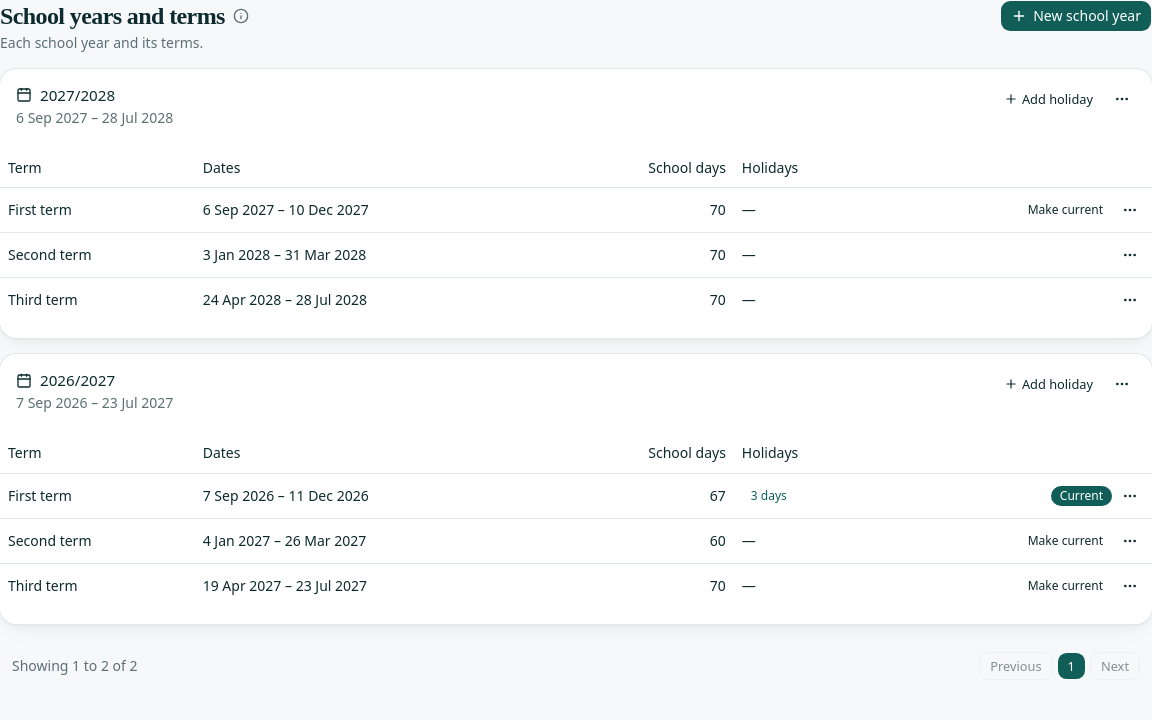
it: CalendarPage › offers Edit dates from a term row menu
The image size is (1152, 720).
Click the button named "Actions for Second term" in the row of "4 Jan 2027 – 26 Mar 2027": x=1130, y=541 [1116,527,1144,555]
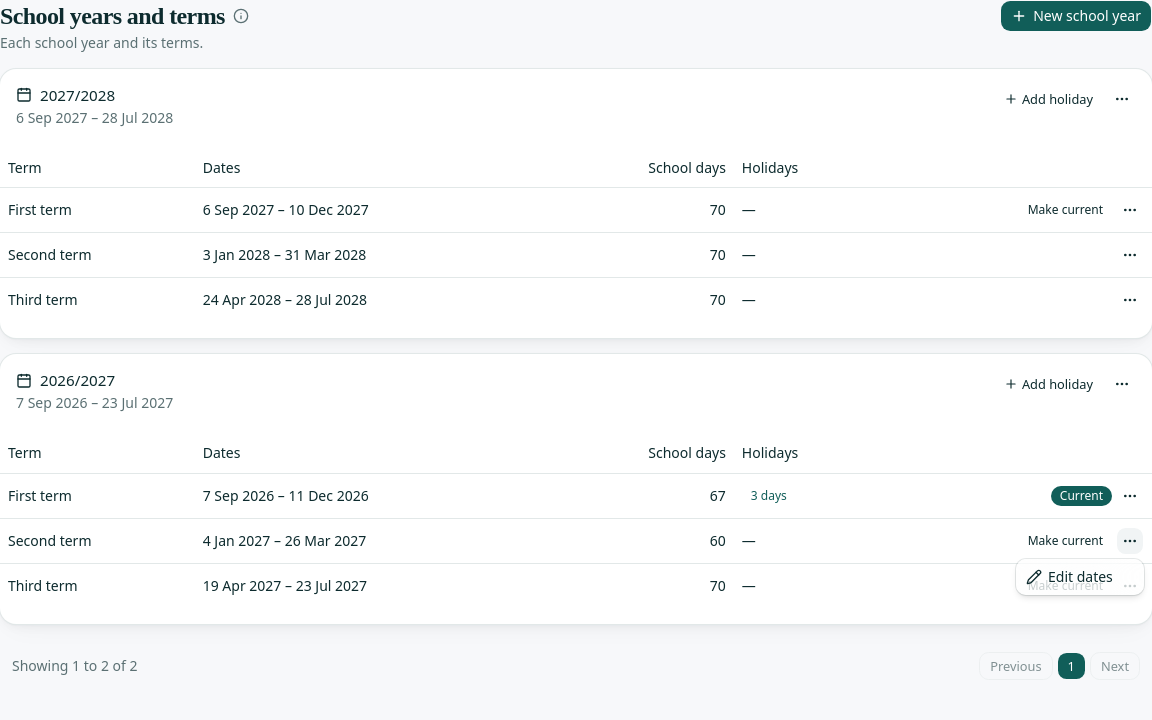
Click the menu item "Edit dates": x=1069, y=576 [1026,567,1113,586]
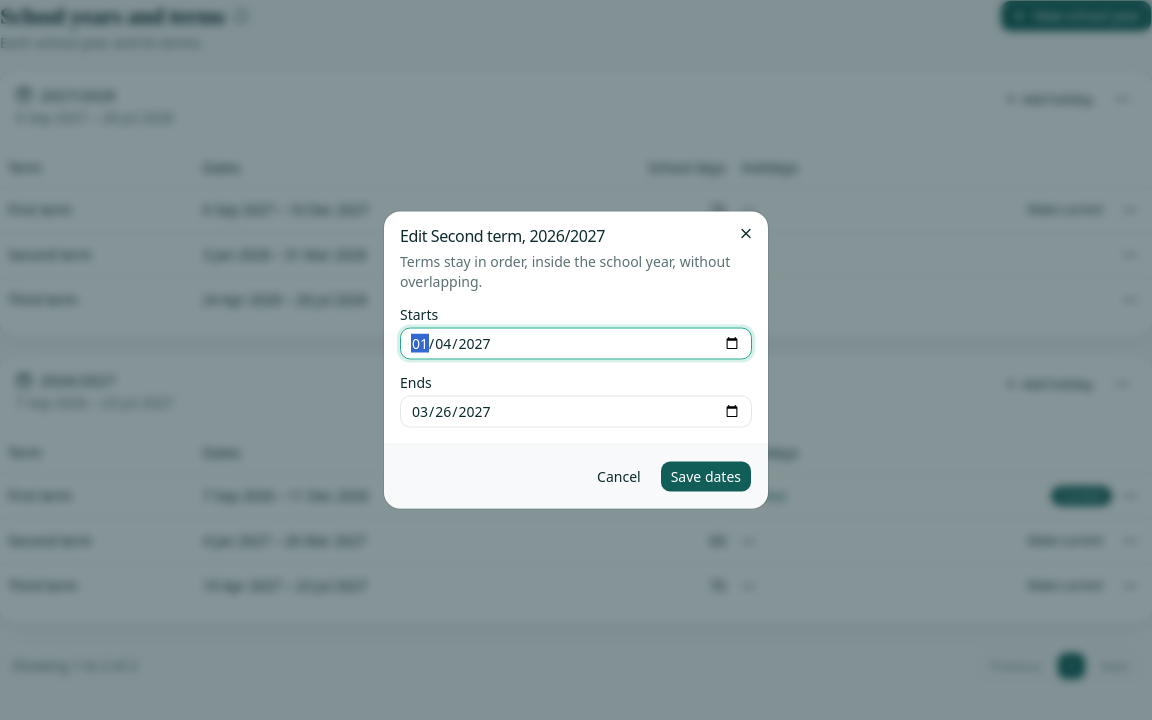
Check: the heading "Edit Second term, 2026/2027" is shown, box [400,224,605,246]
Check: the date field labelled "Starts" holds "2027-01-04", box [400,328,752,360]
